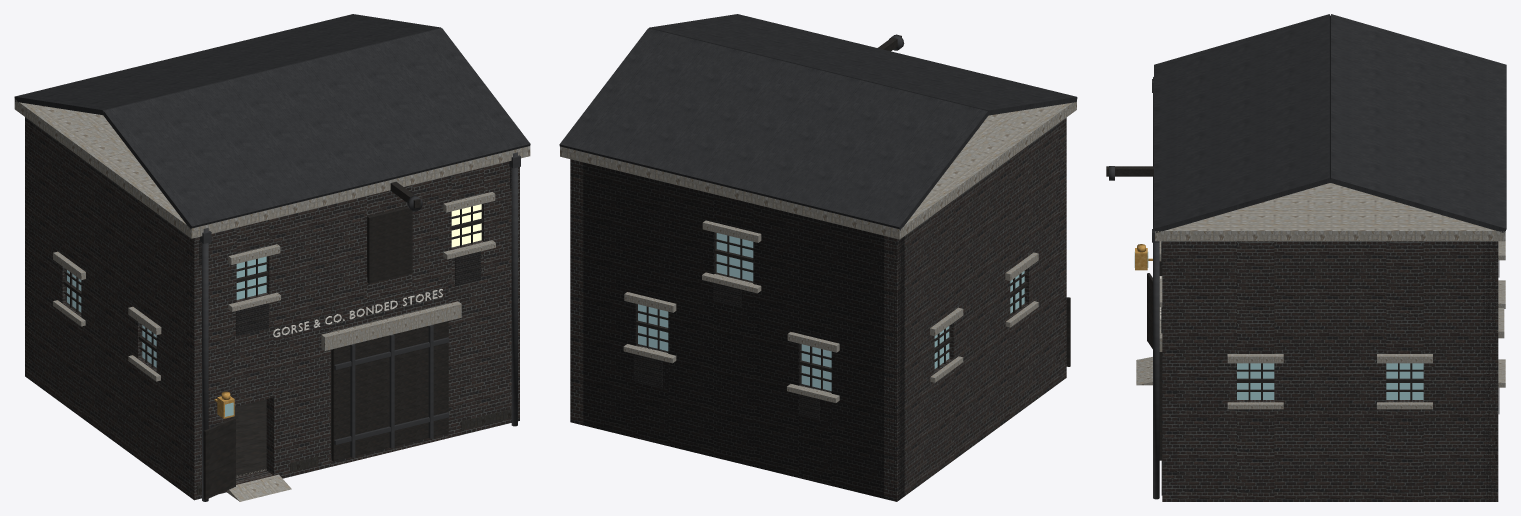
The model's file is prop_ashmoor_warehouse.glb.
3 views of the same model, side by side, from view 1: azimuth 30°, elevation 25°; view 2: azimuth 150°, elevation 25°; view 3: azimuth 270°, elevation 25° (orthographic).
Visible parts, largest first — view 1: building_ashmoor_warehouse; view 2: building_ashmoor_warehouse; view 3: building_ashmoor_warehouse.
Boxes of the visible parts, x1,y1,x2,y2 form: building_ashmoor_warehouse: (14,14,530,501); building_ashmoor_warehouse: (559,14,1077,501); building_ashmoor_warehouse: (1106,14,1506,501).
Size of the model in its own units: 10.4 by 9.67 by 10.72.
12 materials, 11 textured.
